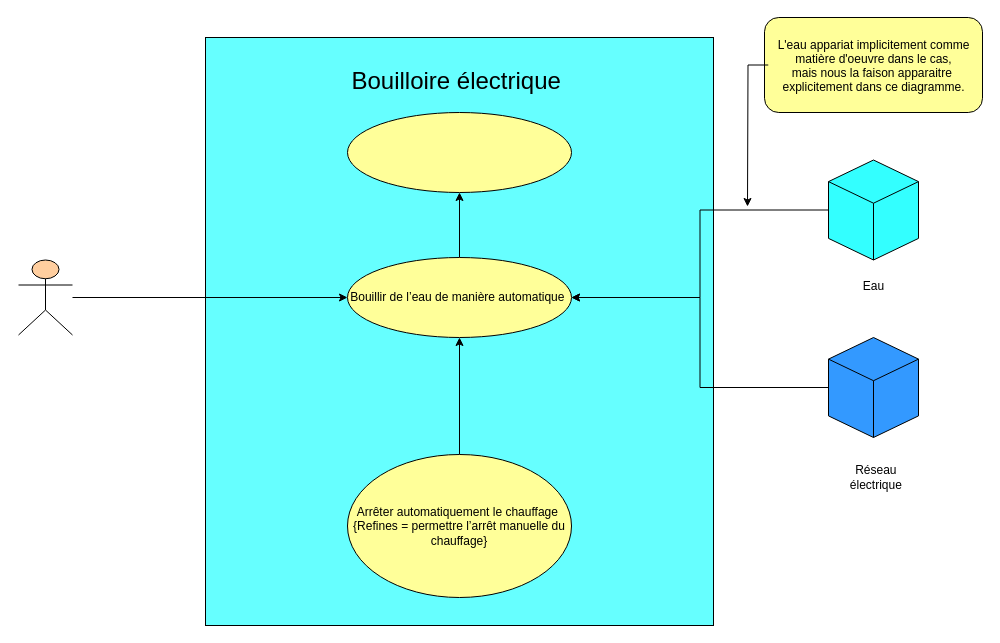
The diagram is 1000 pixels wide and 643 high, and some of its shapes have lost their labels. The shapes that lost their labels are listed below. From the top down, each one's box as (x1, y1, x2, y2) in pixels, then its label:
(346, 112, 572, 192): Arrêter automatiquement le chauffage
(18, 259, 72, 335): Utilisateur
